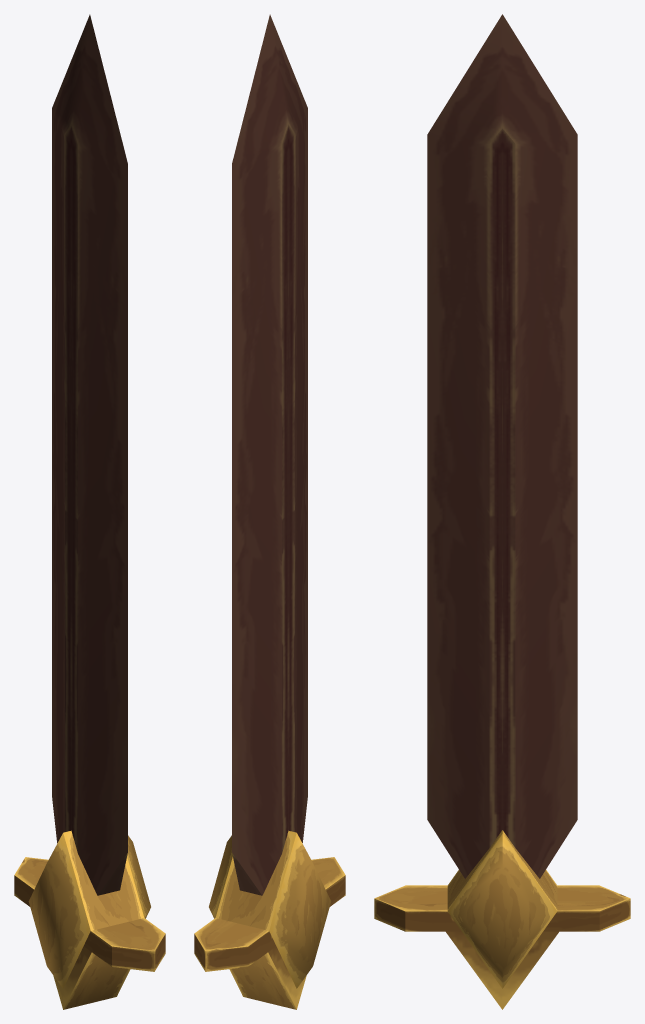
File: SM_WEP_head_sword_battle_19.fbx
The picture shows the model from 3 angles, left to right: view 1: azimuth 30°, elevation 25°; view 2: azimuth 150°, elevation 25°; view 3: azimuth 270°, elevation 25°; orthographic projection.
Visible parts, largest first — view 1: SM_WEP_head_sword_battle_19; view 2: SM_WEP_head_sword_battle_19; view 3: SM_WEP_head_sword_battle_19.
Part boxes in pixels (x1,y1,x2,y2): SM_WEP_head_sword_battle_19: (14, 14, 165, 1009); SM_WEP_head_sword_battle_19: (194, 14, 345, 1009); SM_WEP_head_sword_battle_19: (374, 14, 630, 1009).
Bounding box in the file's own units: 9.81 × 108 × 25.47.
